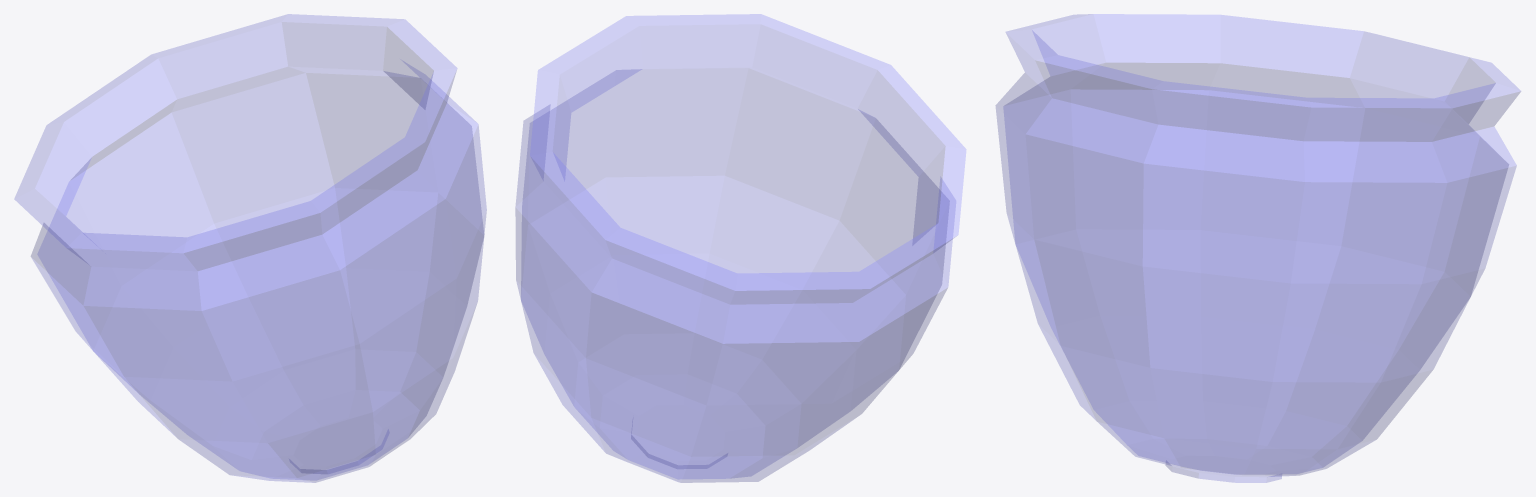
The picture shows the model from 3 angles, left to right: view 1: azimuth 30°, elevation 25°; view 2: azimuth 150°, elevation 25°; view 3: azimuth 270°, elevation 25°; orthographic projection. The views are drawn at different scales.
Visible parts, largest first — view 1: node_MeshObject-1575644160-PolyGlass24; view 2: node_MeshObject-1575644160-PolyGlass24; view 3: node_MeshObject-1575644160-PolyGlass24.
Part boxes in pixels (<box>): node_MeshObject-1575644160-PolyGlass24: <box>14,14,486,482</box>; node_MeshObject-1575644160-PolyGlass24: <box>515,14,966,482</box>; node_MeshObject-1575644160-PolyGlass24: <box>995,14,1520,482</box>.
Bounding box in the file's own units: 3.93 × 3.66 × 3.91.
